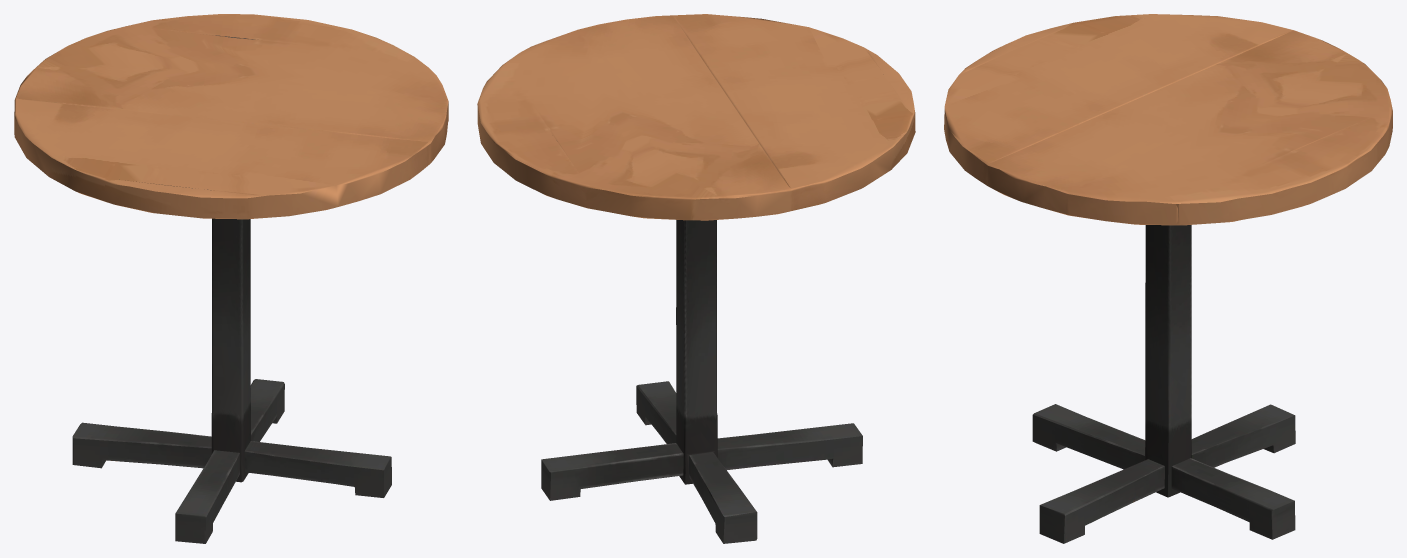
File: cafe_table.glb
3 views of the same model, side by side, from view 1: azimuth 30°, elevation 25°; view 2: azimuth 150°, elevation 25°; view 3: azimuth 270°, elevation 25° (orthographic). The views are drawn at different scales.
Visible parts, largest first — view 1: body; view 2: body; view 3: body.
Boxes of the visible parts, x1,y1,x2,y2 form: body: [14, 14, 448, 543]; body: [477, 14, 915, 543]; body: [944, 14, 1392, 543].
Bounding box in the file's own units: 0.7987 × 0.7493 × 0.7999.
1 material, 1 textured.
